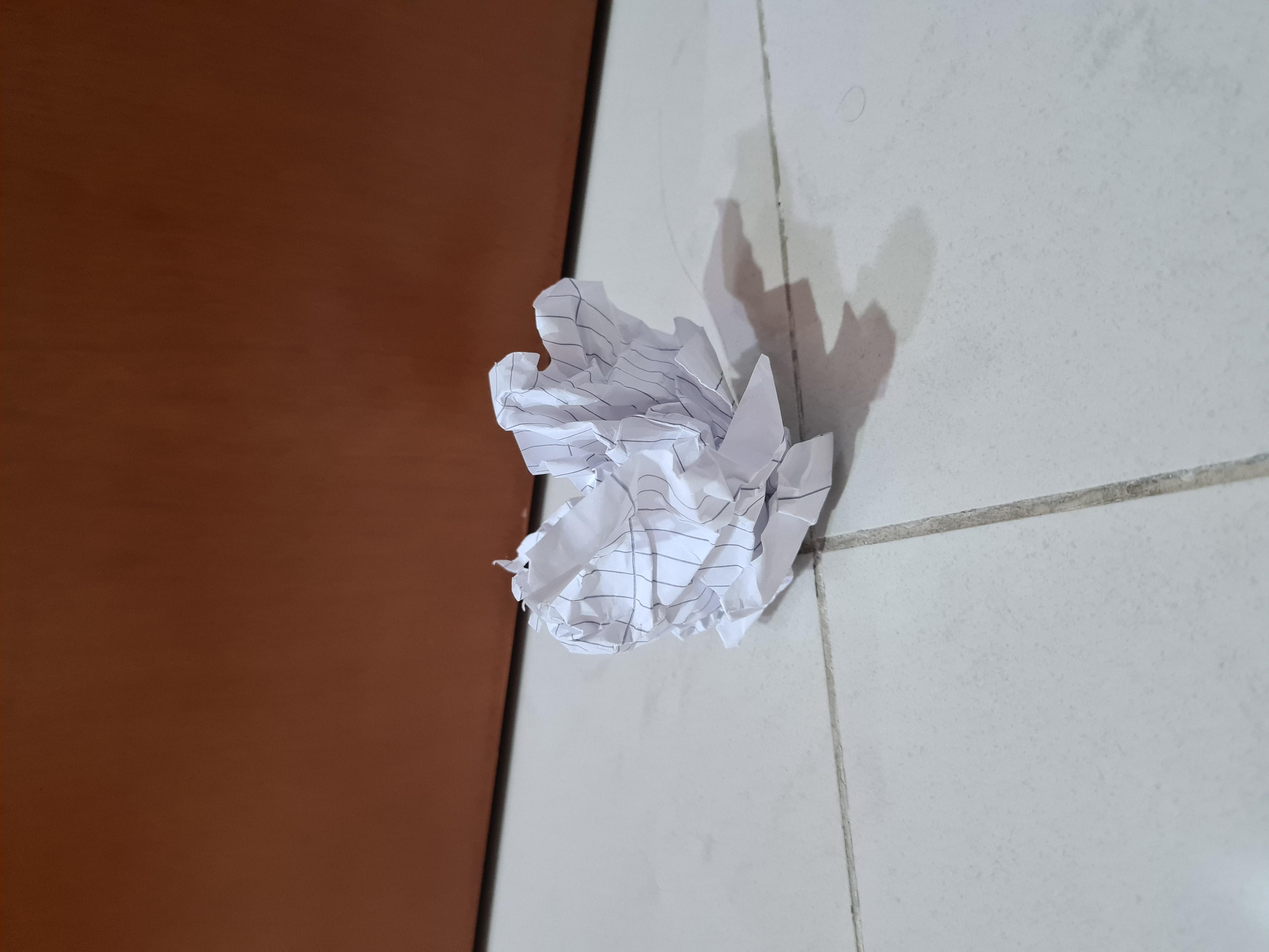paper: (409, 364, 945, 633)
